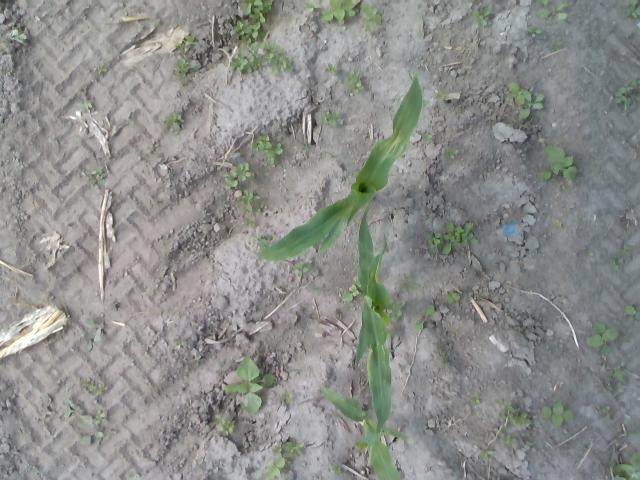Maize: (242, 77, 423, 264), (320, 295, 408, 480), (353, 197, 392, 364)
Weeds: (224, 358, 275, 416), (230, 40, 294, 74), (536, 144, 579, 182), (507, 82, 544, 120), (442, 221, 480, 256), (585, 322, 620, 356), (493, 398, 532, 426), (237, 188, 264, 228), (252, 134, 284, 166), (541, 400, 575, 428), (264, 444, 290, 480), (232, 18, 266, 44), (321, 0, 356, 25), (61, 402, 93, 429), (611, 451, 640, 480), (224, 162, 254, 190), (613, 78, 640, 109), (239, 0, 275, 23), (82, 316, 104, 350), (536, 0, 570, 22), (360, 3, 382, 32), (608, 245, 632, 271), (604, 364, 627, 391), (172, 57, 193, 86), (416, 304, 436, 330), (212, 414, 235, 436), (0, 28, 28, 46), (80, 377, 108, 395), (474, 6, 496, 28), (250, 232, 274, 252), (318, 108, 344, 126), (82, 169, 106, 188), (342, 280, 361, 302), (345, 71, 364, 93), (282, 440, 304, 459), (78, 430, 104, 446), (398, 273, 418, 292), (164, 112, 183, 132), (498, 426, 518, 445), (176, 35, 198, 52), (386, 302, 404, 320), (438, 343, 450, 370), (623, 0, 640, 19), (292, 260, 312, 276), (424, 232, 442, 248), (624, 304, 640, 320), (478, 444, 494, 460), (304, 0, 322, 12), (147, 142, 161, 157), (444, 147, 459, 160), (526, 26, 542, 38), (280, 392, 294, 404), (444, 292, 459, 303), (323, 63, 339, 73), (94, 65, 108, 76), (95, 412, 106, 426), (436, 92, 451, 102), (602, 404, 612, 418), (471, 394, 482, 406), (76, 101, 92, 109), (552, 41, 564, 51), (421, 133, 434, 142), (515, 326, 524, 337), (628, 428, 640, 436), (332, 464, 341, 474), (163, 256, 171, 266), (176, 339, 184, 349), (422, 100, 431, 108), (301, 143, 310, 150), (586, 250, 594, 256), (292, 369, 300, 375), (452, 330, 459, 336), (614, 438, 620, 444), (245, 441, 252, 446), (55, 140, 60, 146)
